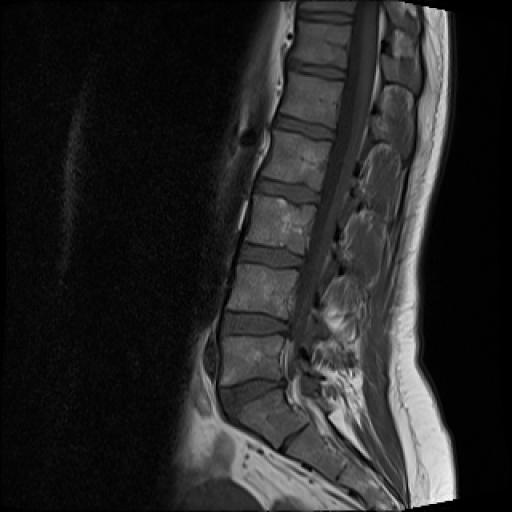L1: (279, 71, 343, 128)
L2: (261, 130, 331, 190)
L3: (245, 194, 316, 254)
L4: (227, 264, 298, 318)
L5: (220, 337, 284, 386)
S1: (233, 387, 308, 450)
